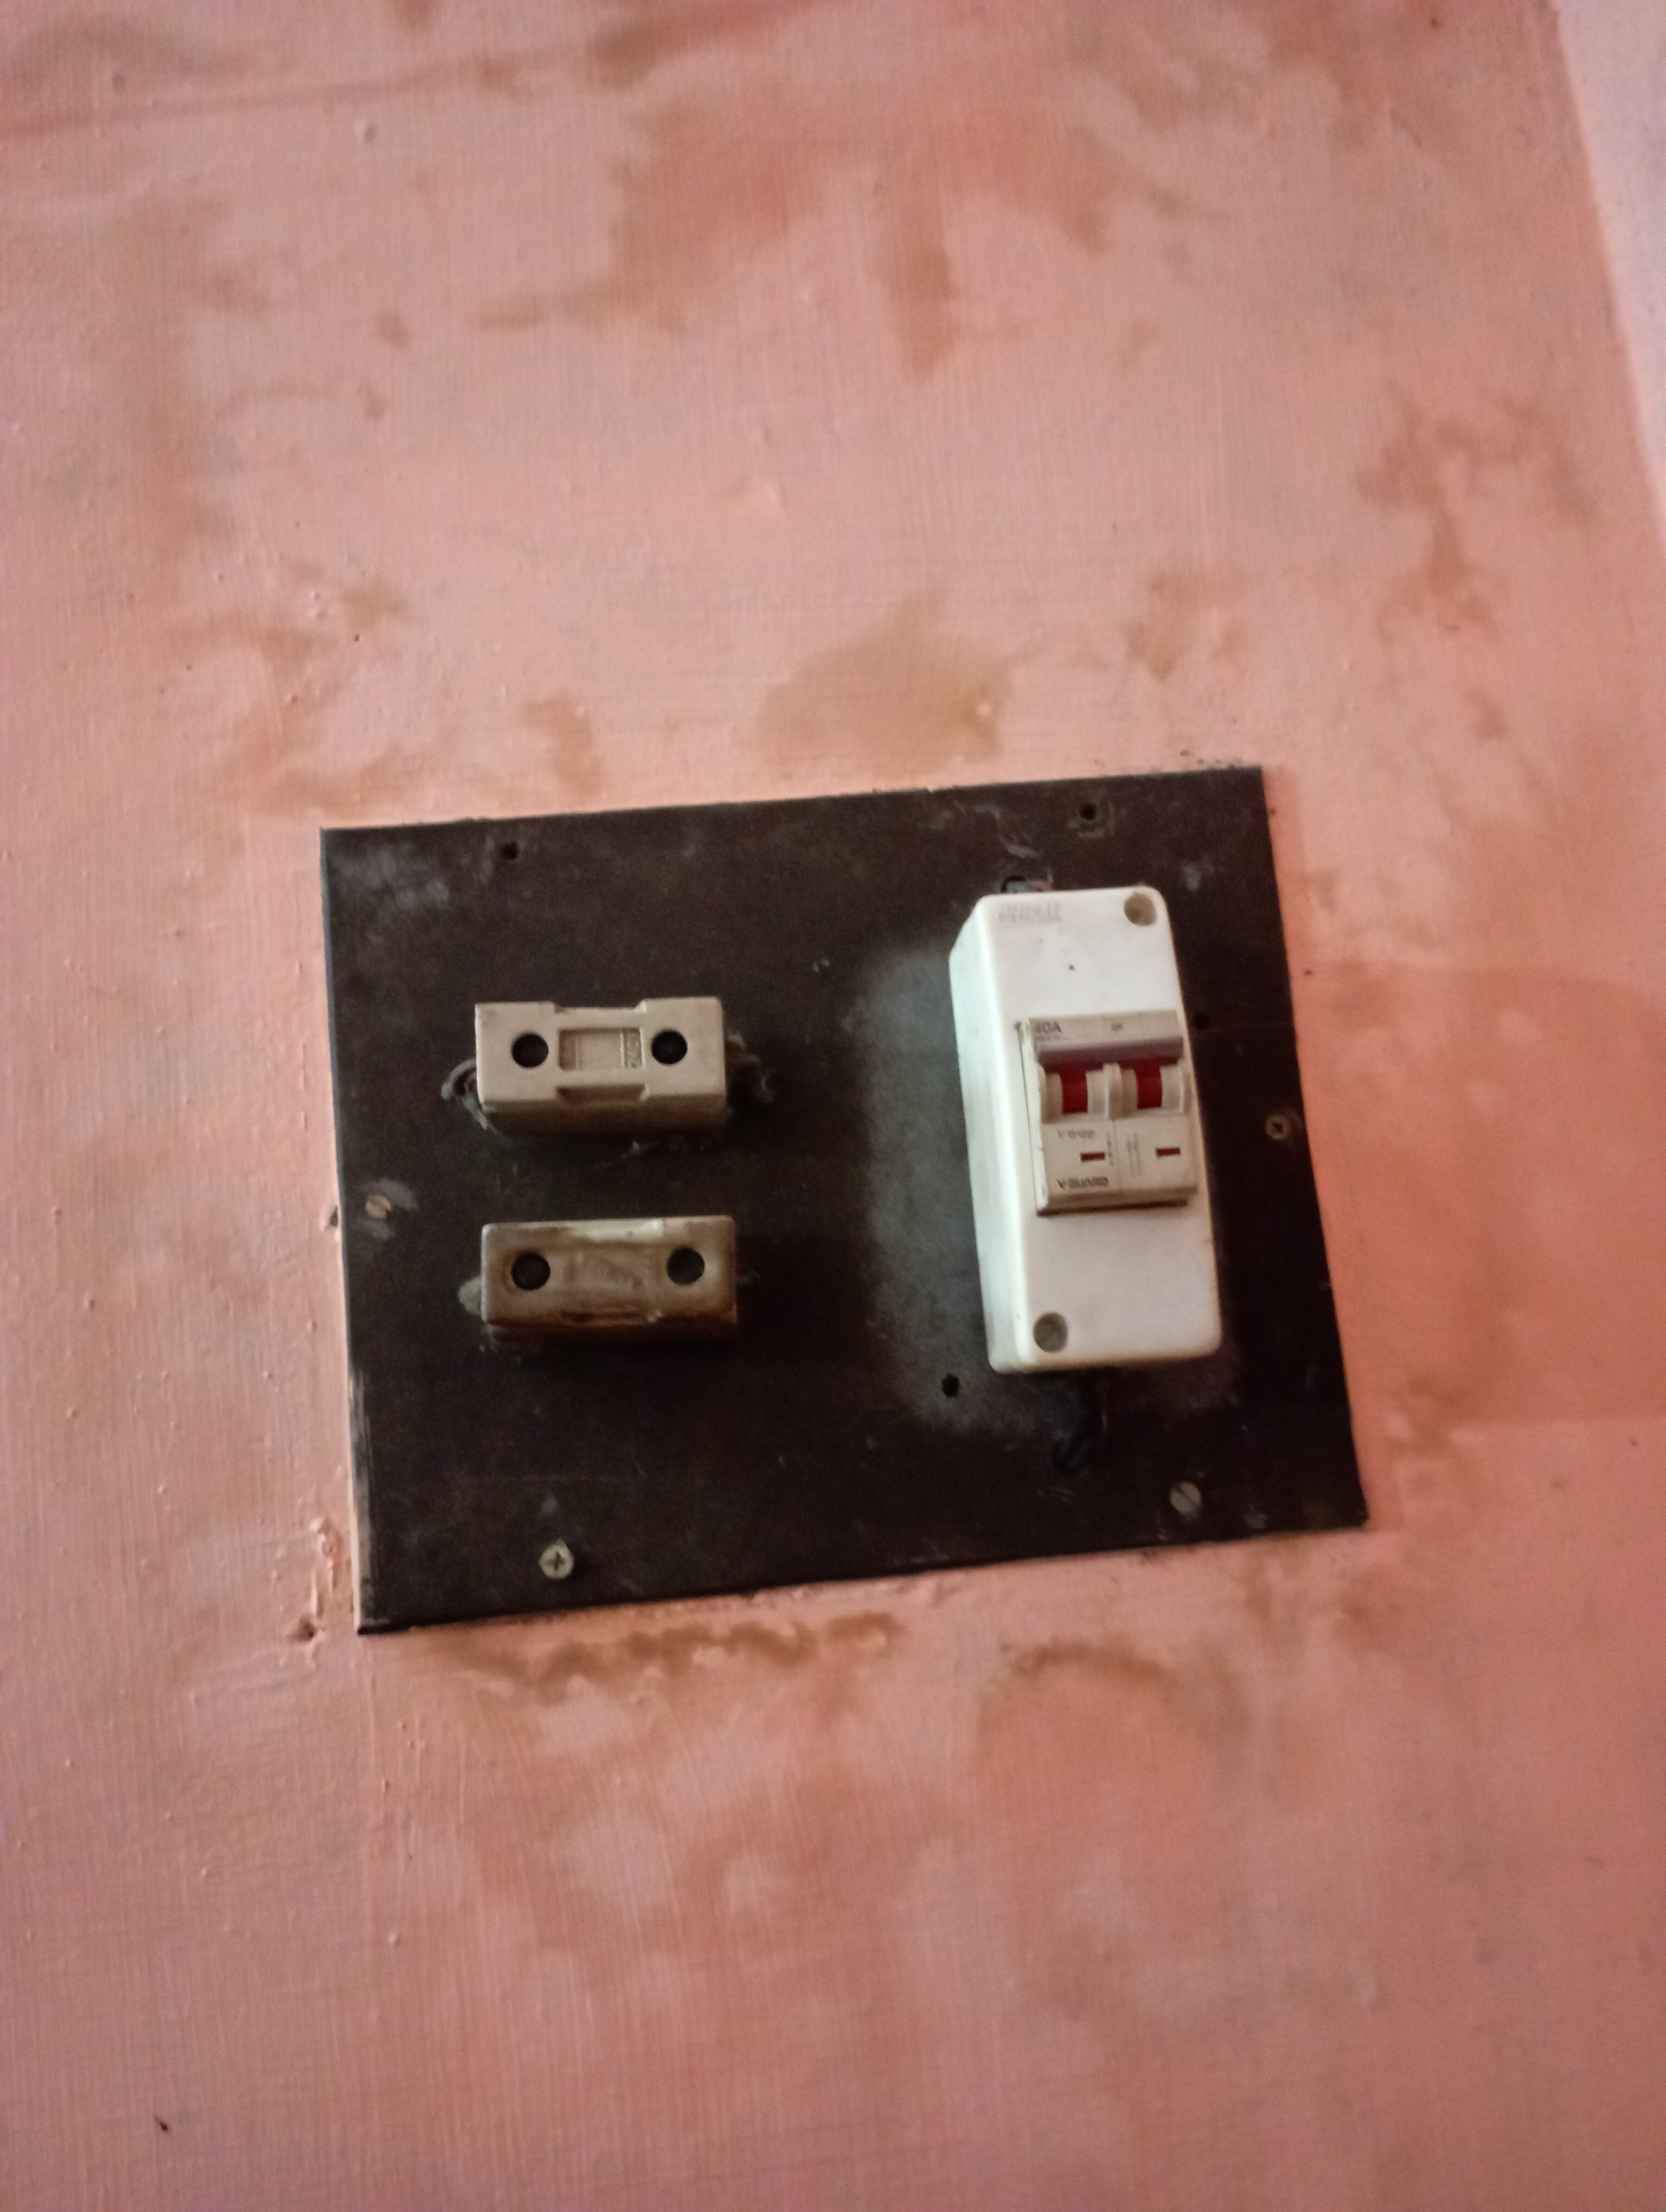ciruit_breaker: (935, 887, 1256, 1388)
fuse: (459, 1203, 754, 1357), (467, 988, 740, 1137)
